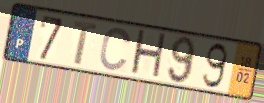7: (38, 14, 66, 62)
9: (166, 34, 199, 85), (201, 42, 230, 89)
C: (98, 26, 133, 73)
H: (128, 28, 168, 83)
T: (72, 20, 99, 67)
